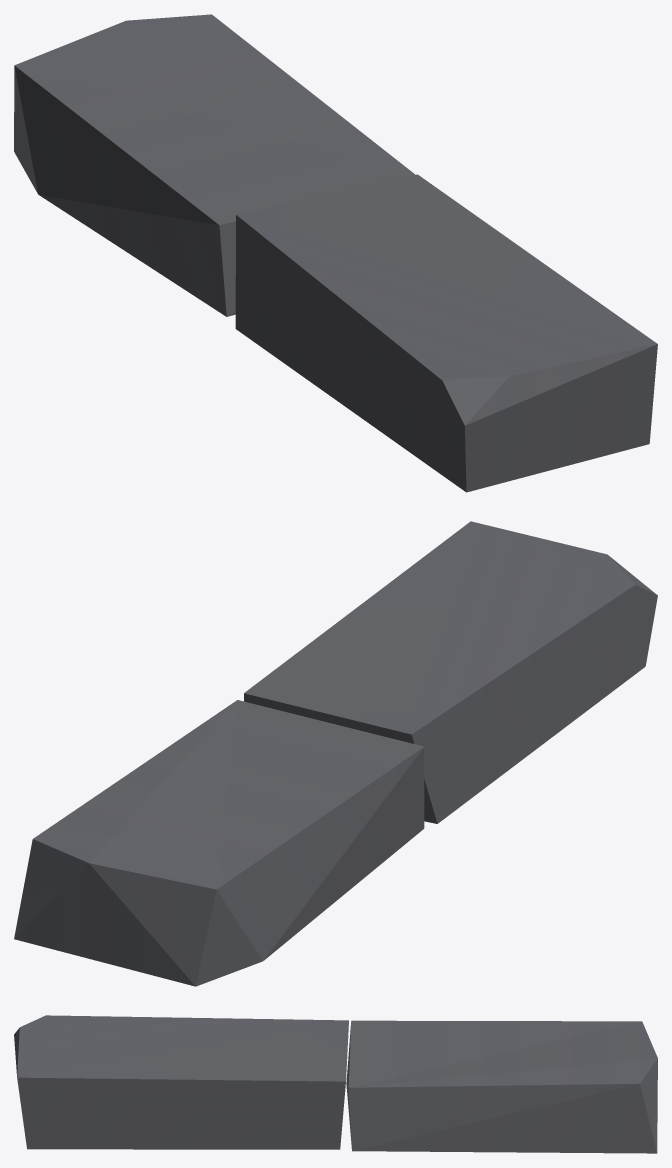
The model's file is Road_1A_LOD1.fbx.
3 views of the same model, one above another, from view 1: azimuth 30°, elevation 25°; view 2: azimuth 150°, elevation 25°; view 3: azimuth 270°, elevation 25° (orthographic). The views are drawn at different scales.
Parts seen in each view (by area): view 1: polySurface10304; view 2: polySurface10304; view 3: polySurface10304.
Part boxes in pixels (<box>): polySurface10304: <box>14,14,657,492</box>; polySurface10304: <box>14,521,657,986</box>; polySurface10304: <box>14,1015,657,1153</box>.
Size of the model in its own units: 54.29 by 26.53 by 204.
